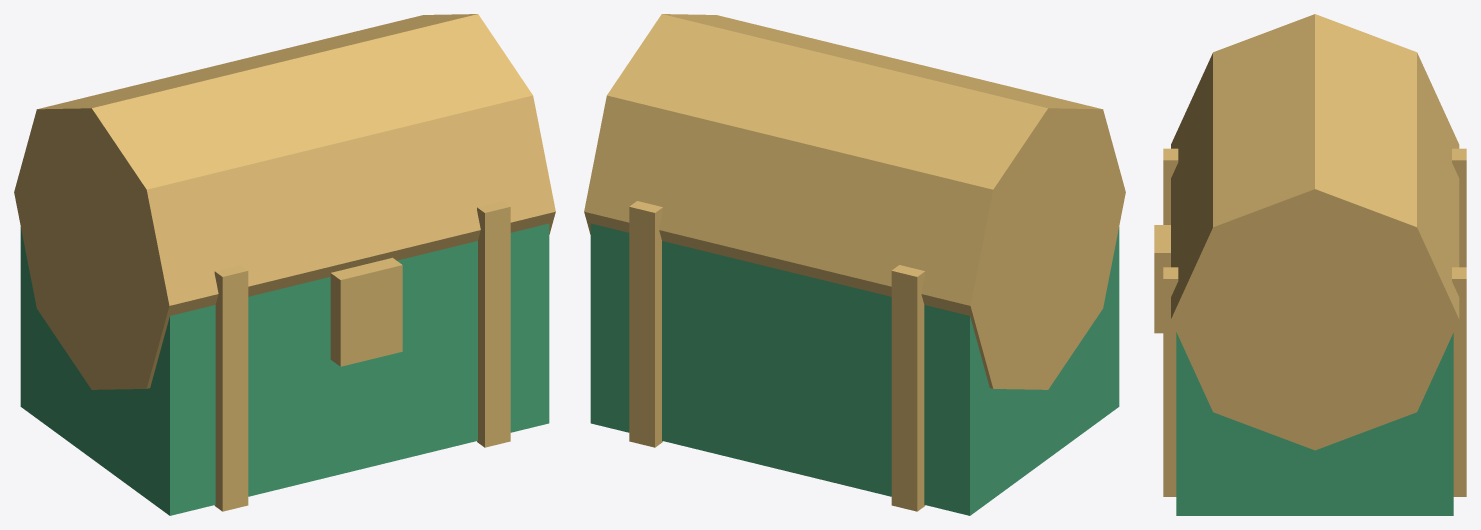
Rendered from repair_crate.glb.
The picture shows the model from 3 angles, left to right: view 1: azimuth 30°, elevation 25°; view 2: azimuth 150°, elevation 25°; view 3: azimuth 270°, elevation 25°; orthographic projection. The views are drawn at different scales.
Visible parts, largest first — view 1: repair_crate; view 2: repair_crate; view 3: repair_crate.
Boxes of the visible parts, x1=… form: repair_crate: x1=14, y1=14, x2=555, y2=515; repair_crate: x1=584, y1=14, x2=1125, y2=515; repair_crate: x1=1154, y1=14, x2=1466, y2=515.
Size of the model in its own units: 1.12 by 0.985 by 0.845.
